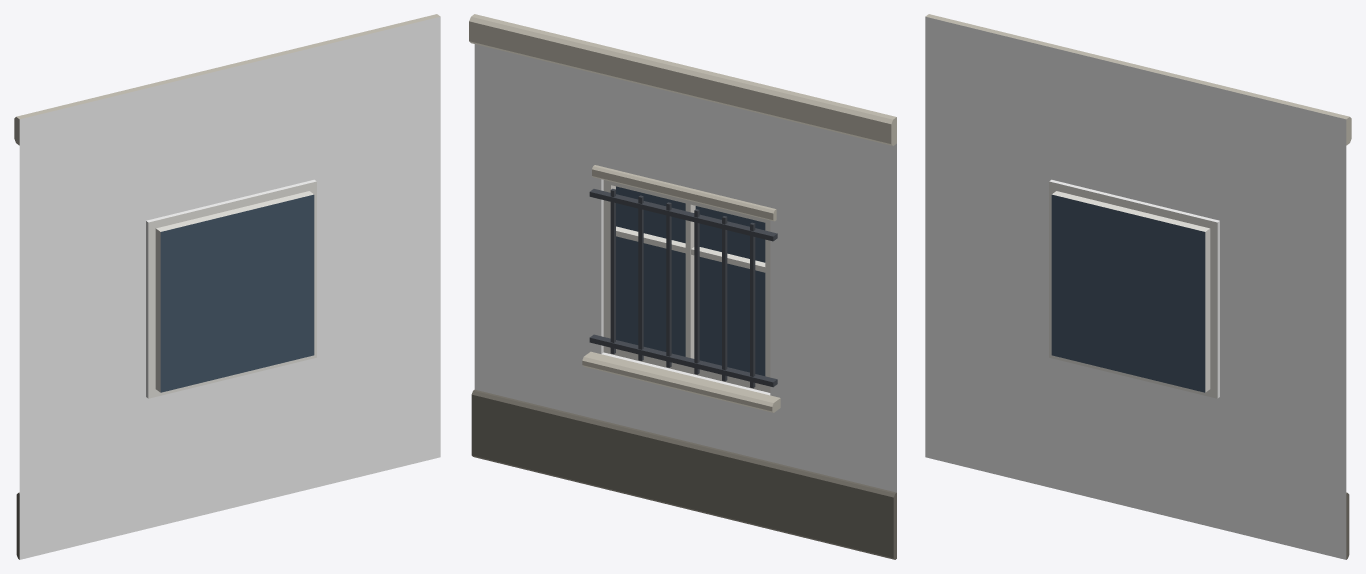
Rendered from apt_ground_win.glb.
The picture shows the model from 3 angles, left to right: view 1: azimuth 30°, elevation 25°; view 2: azimuth 150°, elevation 25°; view 3: azimuth 330°, elevation 25°; orthographic projection.
Parts seen in each view (by area): view 1: apt_ground_win__mesh; view 2: apt_ground_win__mesh; view 3: apt_ground_win__mesh.
Boxes of the visible parts, box(x1,y1,x2,y2) form: apt_ground_win__mesh: box(14, 14, 440, 559); apt_ground_win__mesh: box(469, 14, 896, 559); apt_ground_win__mesh: box(925, 14, 1351, 559).
Size of what is drawn, in the model's own units: 4 by 4 by 0.26.
Materials: 2 (1 with a texture image).
